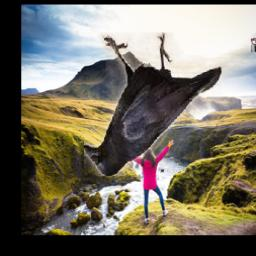Crow: (84, 33, 222, 177)
Woodpecker: (251, 36, 256, 65)
